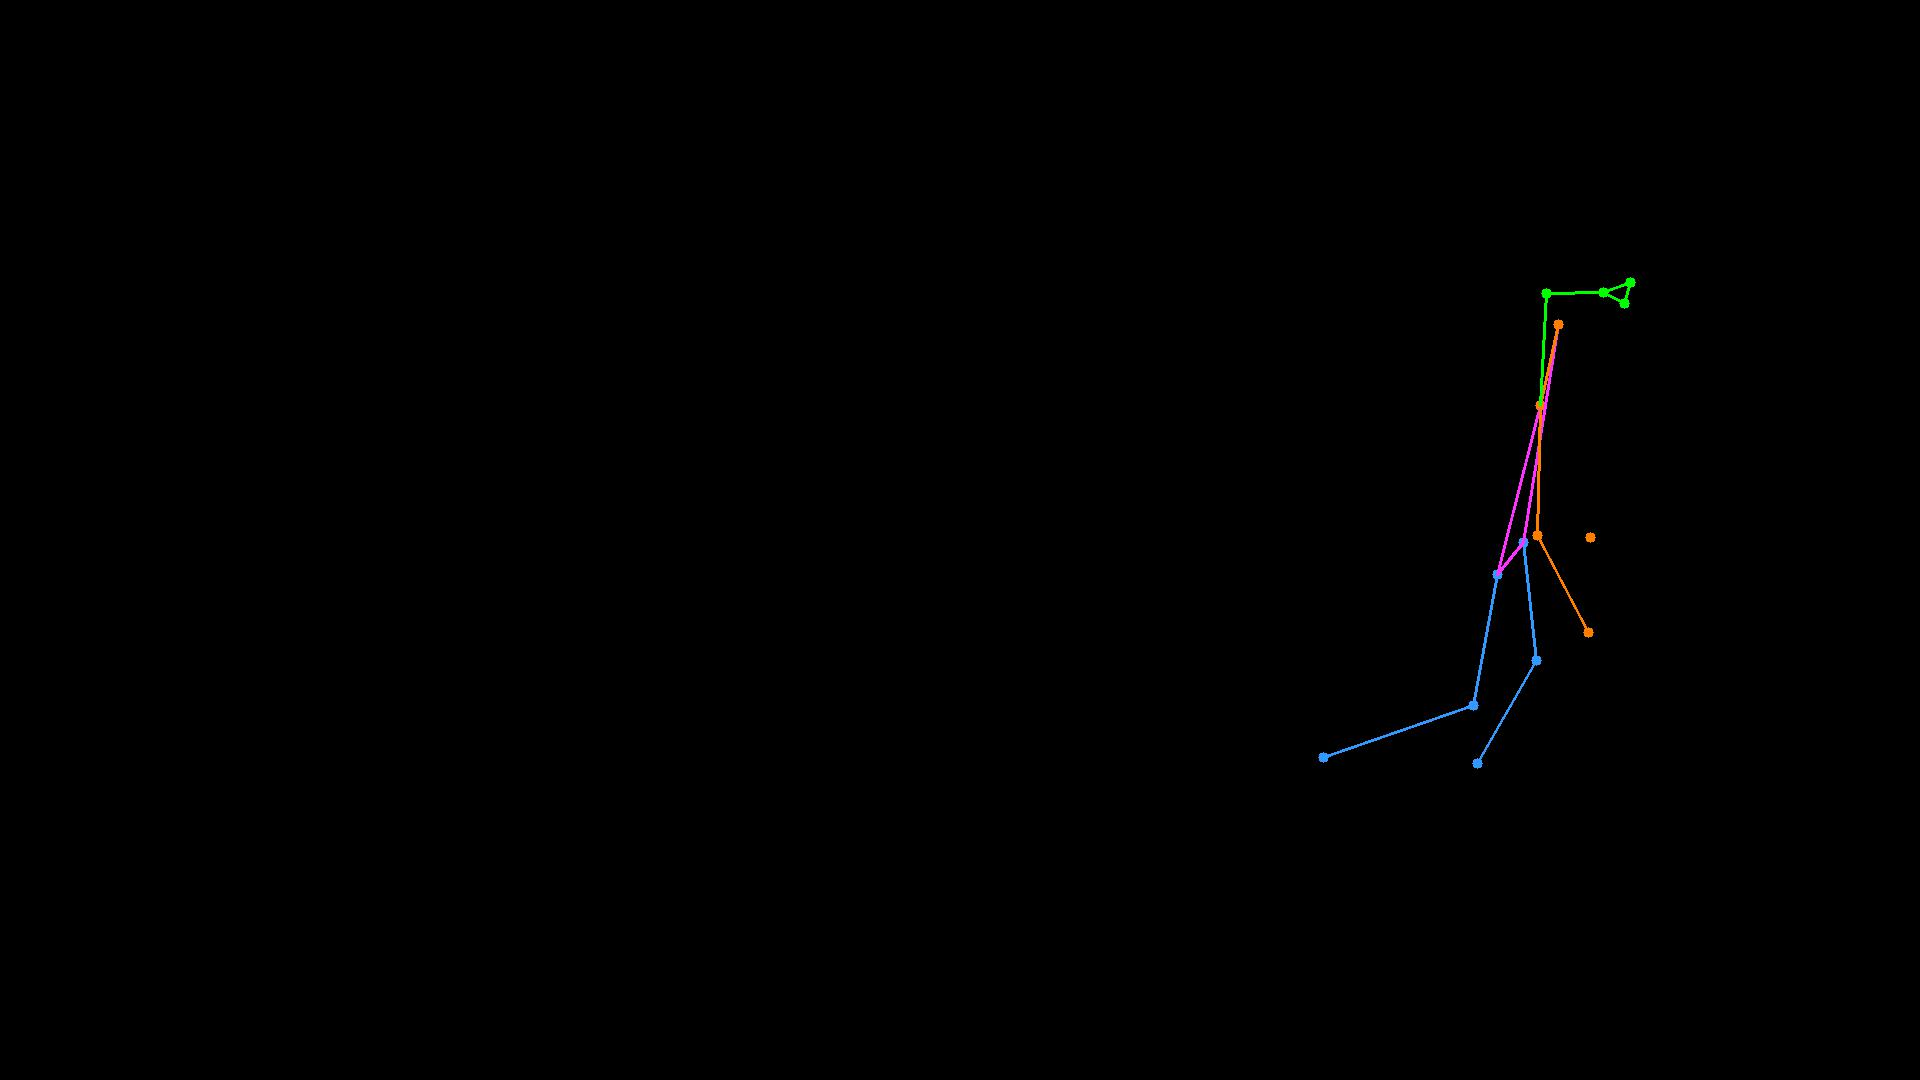normal: (1284, 216, 1692, 836)
